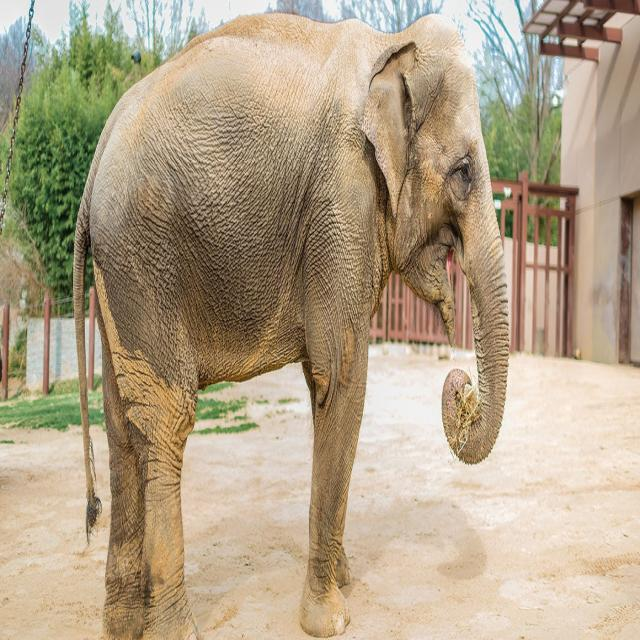Elephant: (70, 8, 509, 632)
